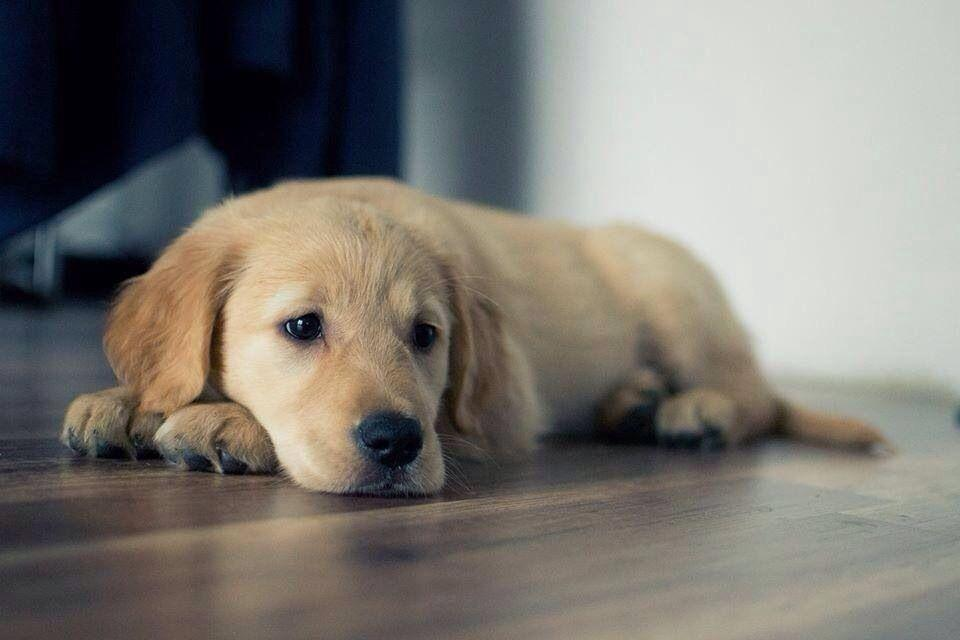puppy-dog: (57, 176, 894, 500)
